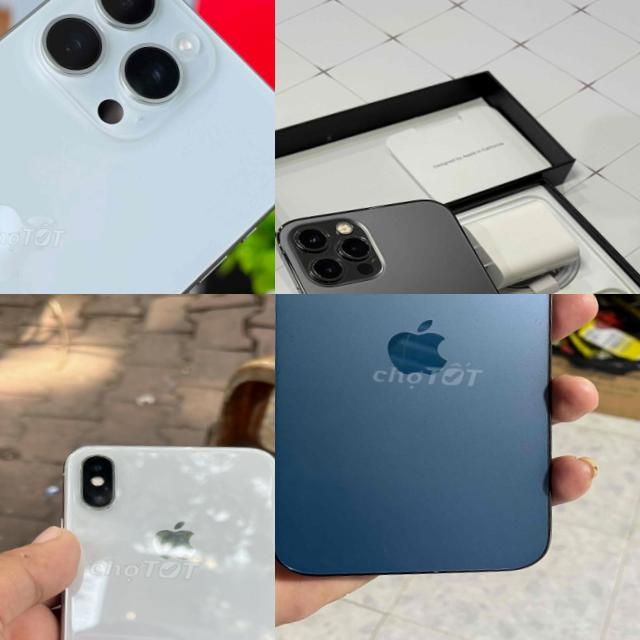gen_12_13: (275, 294, 581, 593), (275, 189, 606, 294)
gen_15: (0, 0, 275, 294)
gen_x_xs: (20, 428, 275, 640)
